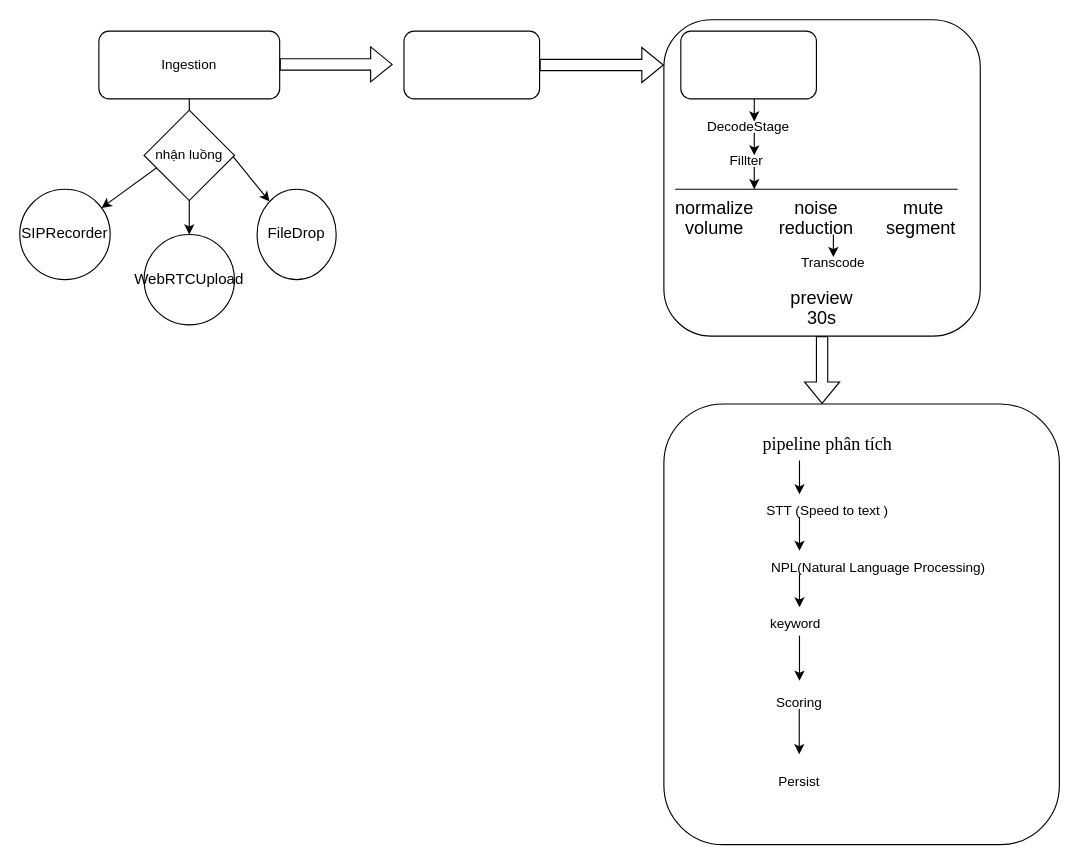
Some shapes in this 1079 by 864 pixel diagram are drawn without their labels. Each missing label, with the box of its shape:
Audio Processing: (680, 30, 816, 99)
session layer ( State Pattern): (403, 30, 540, 99)
